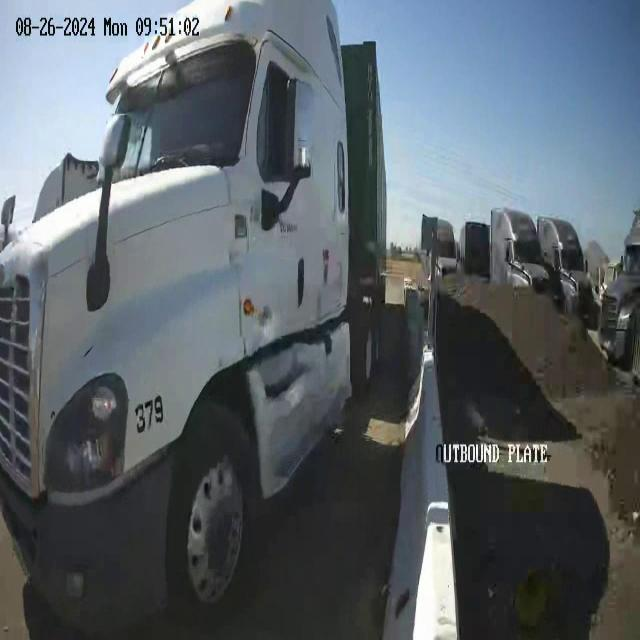TRUCK_OUT: (1, 1, 383, 632)
